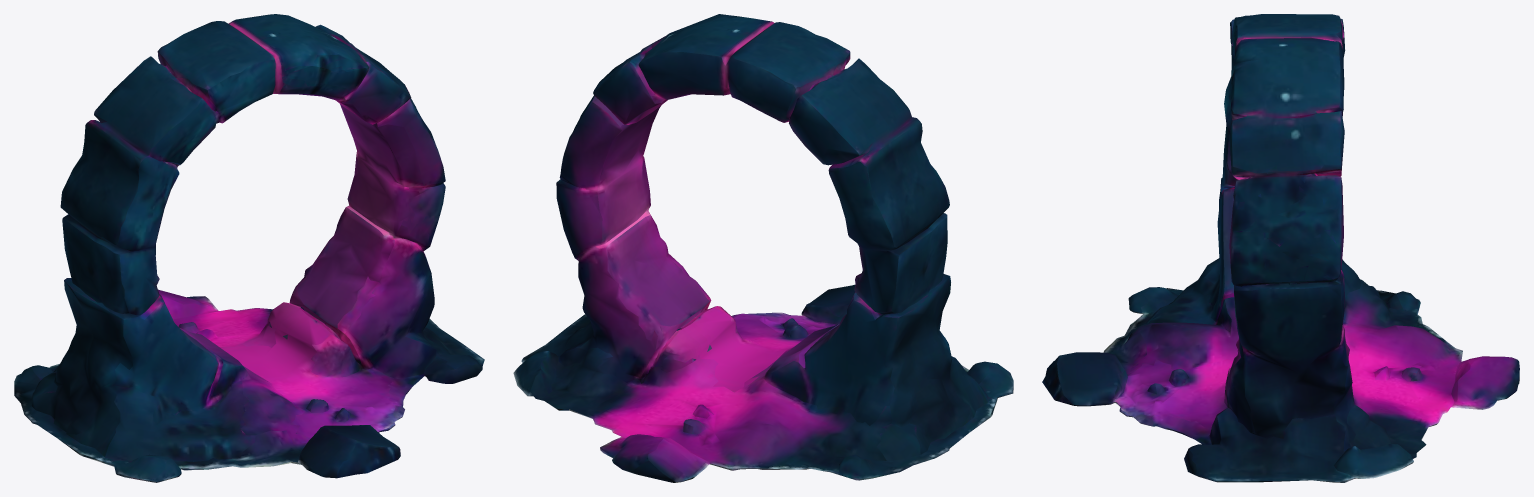
The model's file is yggdrasil-drowned-ring-north.collider.glb.
3 views of the same model, side by side, from view 1: azimuth 30°, elevation 25°; view 2: azimuth 150°, elevation 25°; view 3: azimuth 270°, elevation 25° (orthographic). The views are drawn at different scales.
Visible parts, largest first — view 1: temp_mesh.ply; view 2: temp_mesh.ply; view 3: temp_mesh.ply.
Part boxes in pixels (x1,y1,x2,y2): temp_mesh.ply: [14, 14, 484, 482]; temp_mesh.ply: [513, 14, 1013, 482]; temp_mesh.ply: [1042, 14, 1519, 482].
Bounding box in the file's own units: 1.94 × 1.59 × 1.96.
Materials: 1 (1 with a texture image).
